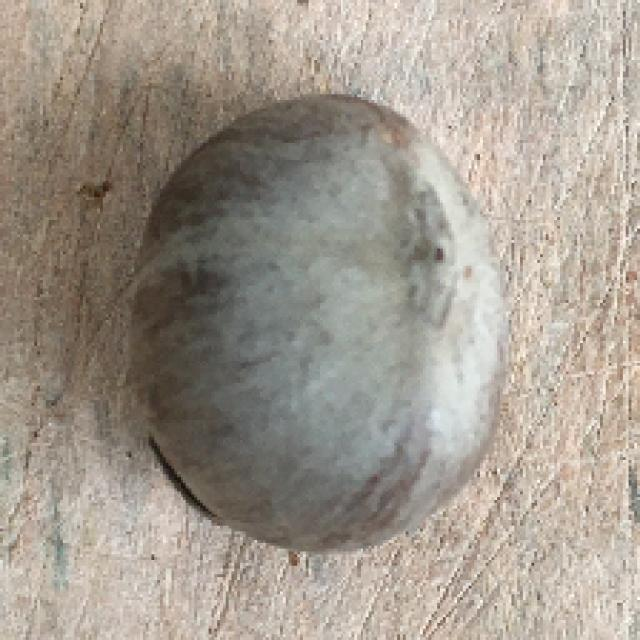damagedHazelnut: (118, 82, 512, 562)
